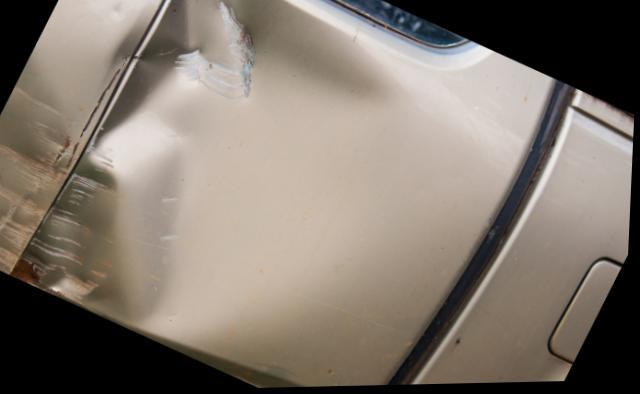dent: (0, 54, 87, 275)
scratch: (12, 0, 373, 331)
